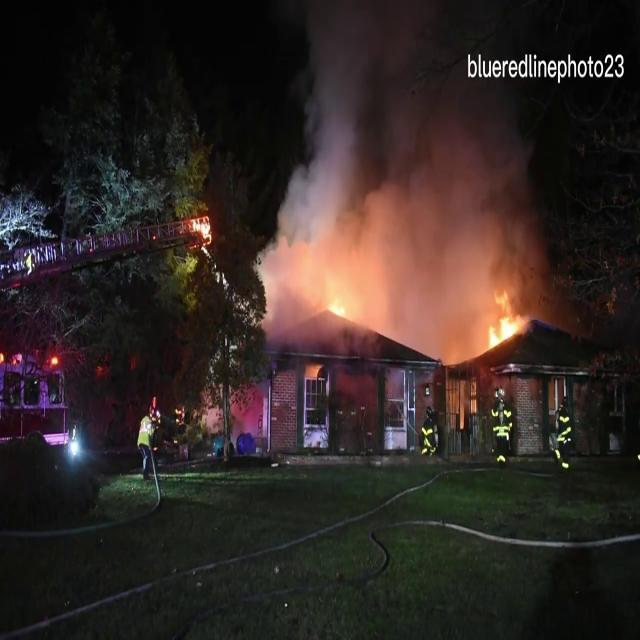Fire: (474, 287, 532, 357)
Smoke: (256, 0, 568, 319)
